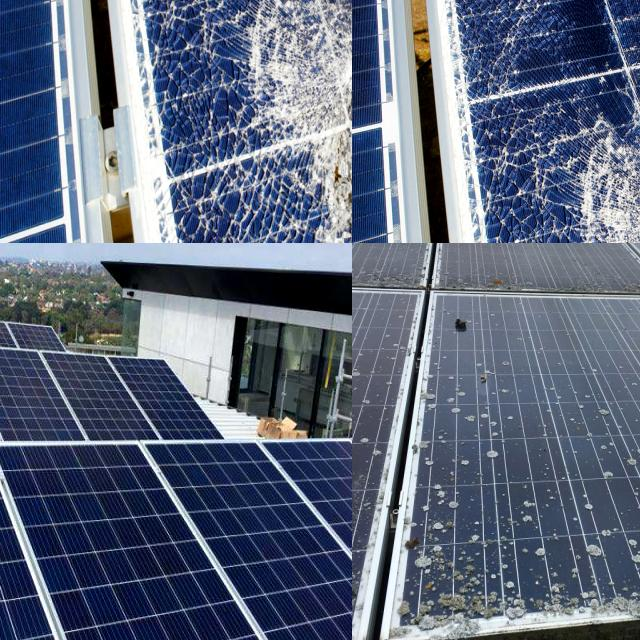bird: (410, 534, 522, 616), (433, 369, 508, 471), (577, 480, 640, 567), (352, 497, 386, 618), (352, 378, 392, 454), (572, 382, 610, 439), (440, 296, 482, 340)
crack: (140, 431, 352, 640), (4, 463, 229, 640), (0, 451, 146, 640), (29, 342, 170, 462), (102, 340, 234, 464), (0, 335, 88, 454), (0, 336, 69, 461), (0, 327, 66, 457), (0, 290, 38, 355), (0, 288, 39, 350), (0, 306, 45, 355)
hotspot: (235, 0, 352, 243)
